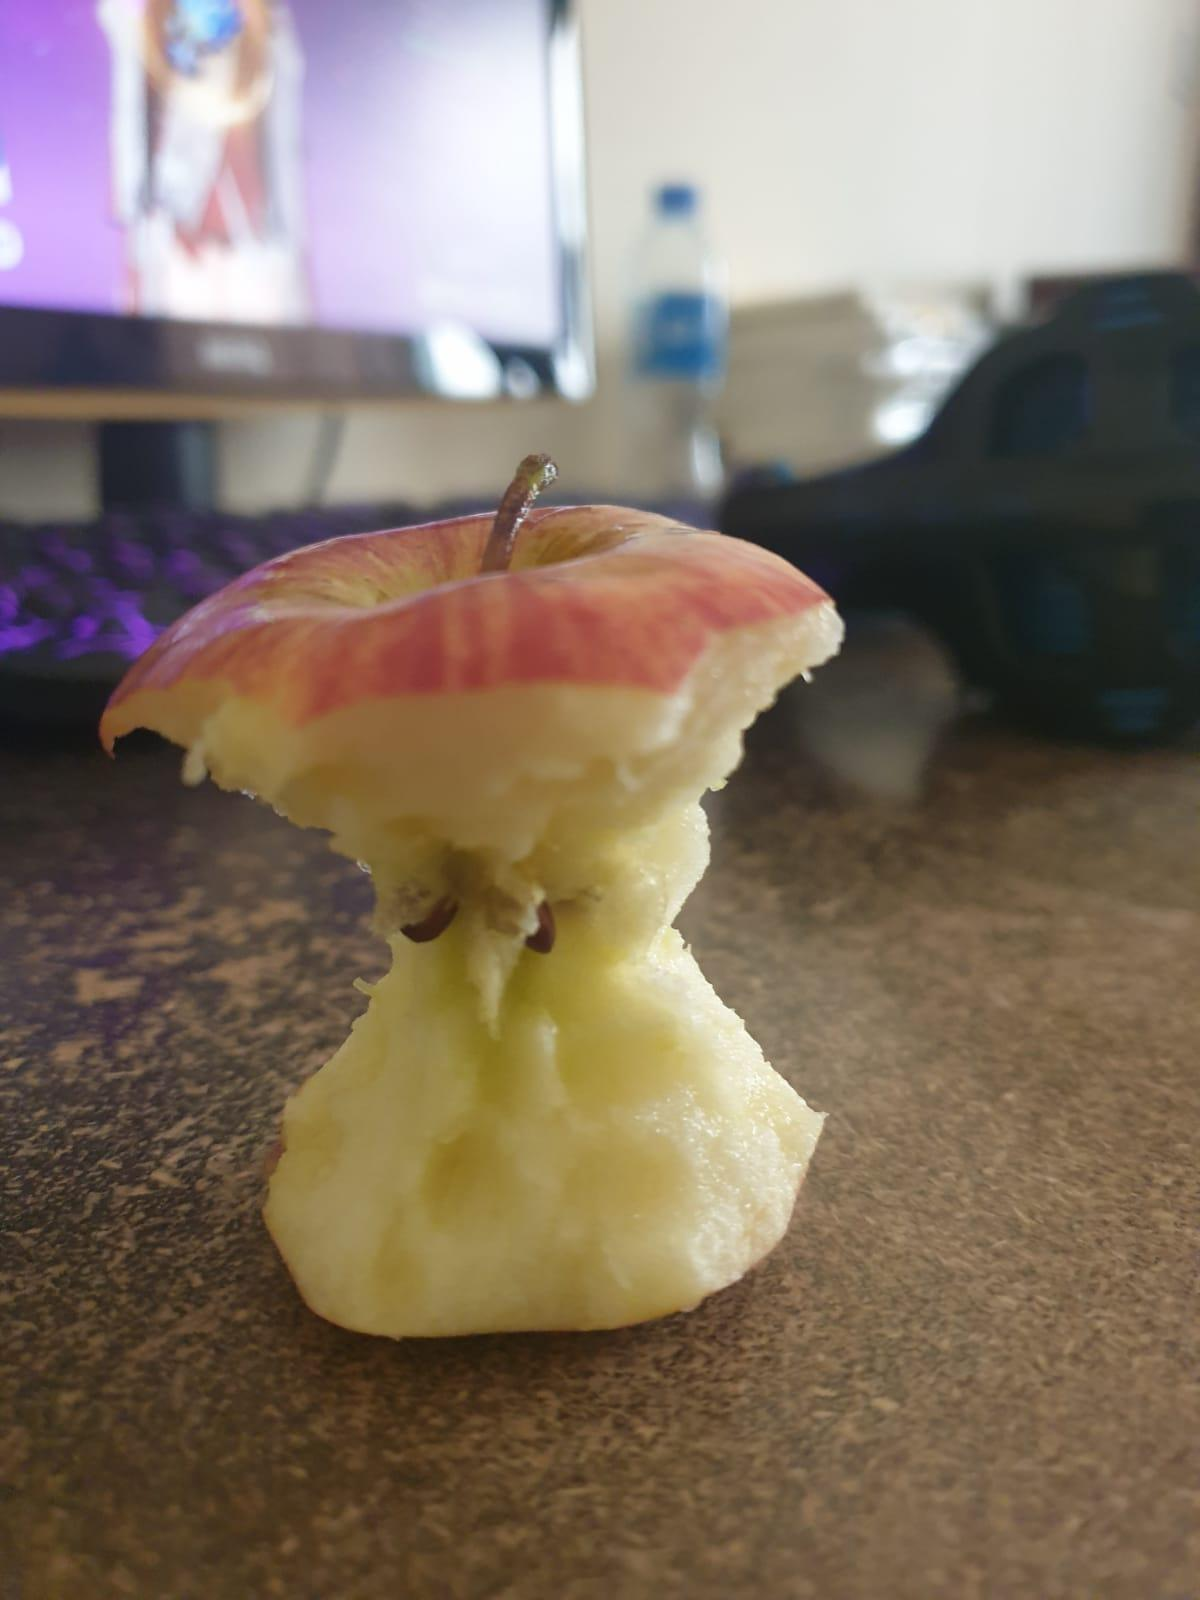Apple: (105, 457, 858, 1367)
